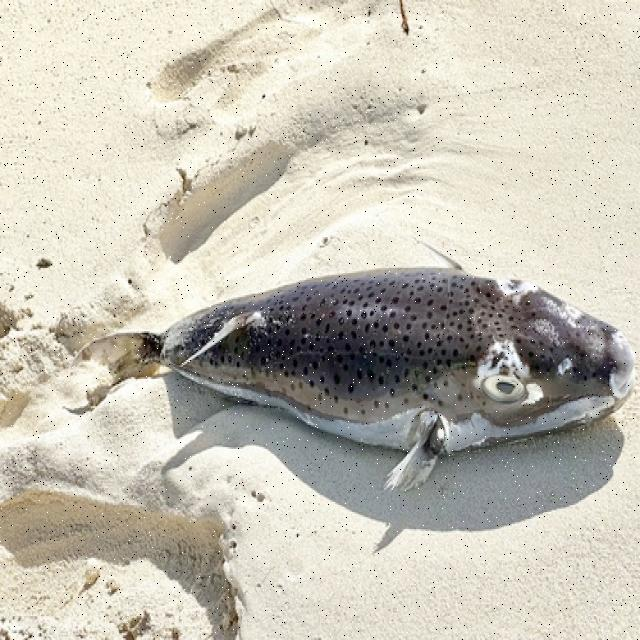Balik: (76, 263, 634, 488)
